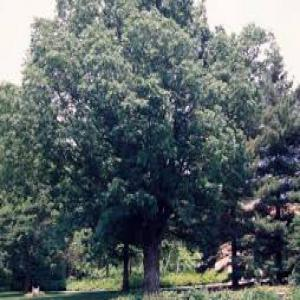Tree: (1, 0, 298, 293)
